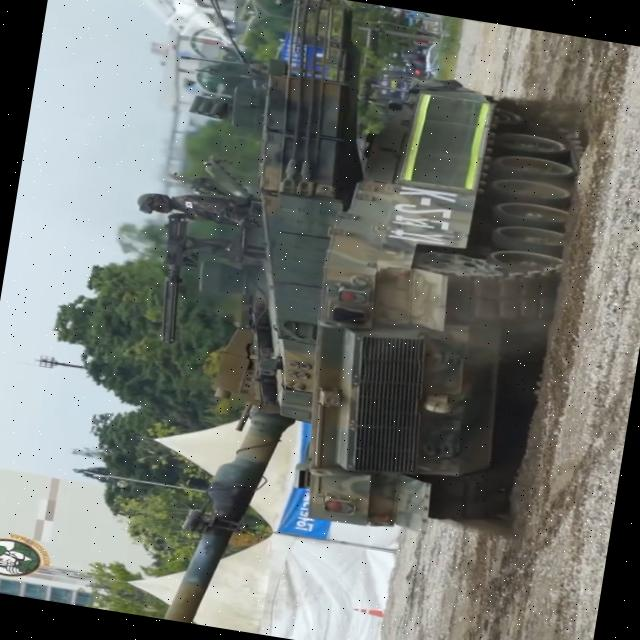korea tank: (70, 0, 601, 640)
